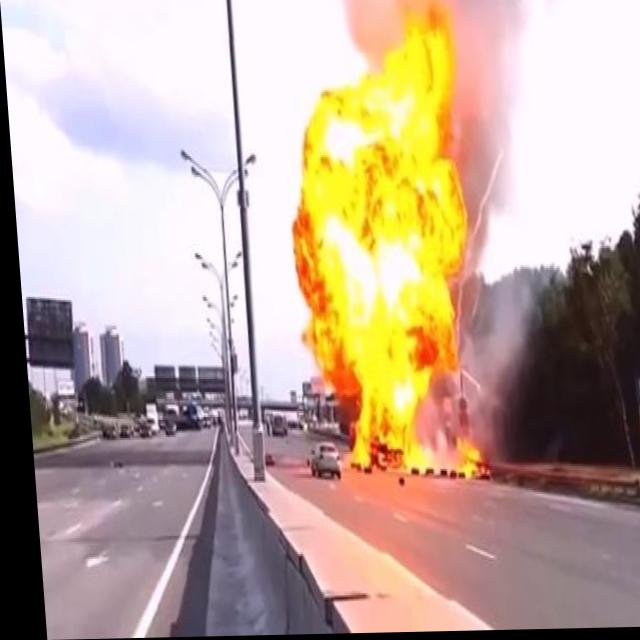fire: (277, 15, 503, 498)
